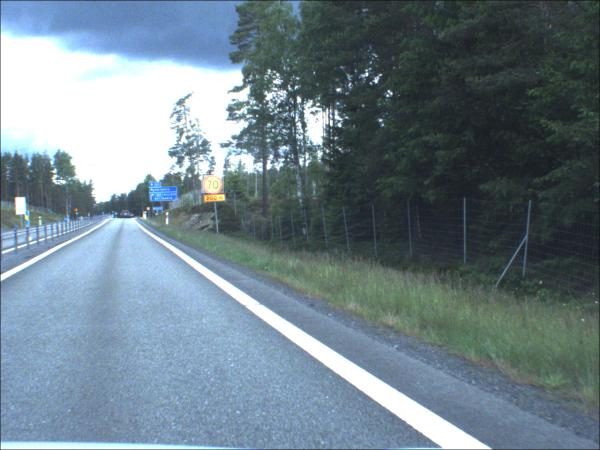70_SIGN: (203, 176, 227, 195), (148, 208, 152, 212), (76, 210, 80, 214)
